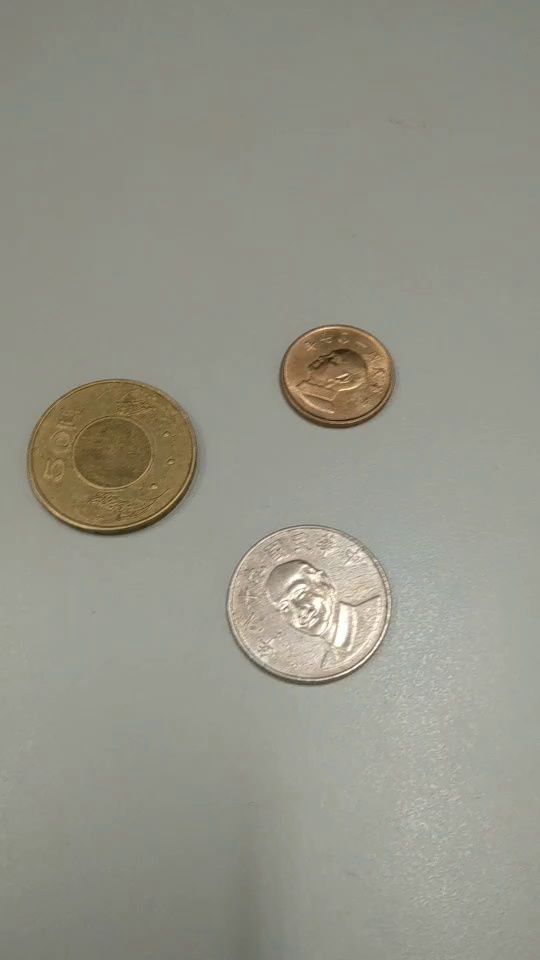NT$ 1: (280, 324, 398, 431)
NT$ 10: (226, 522, 392, 685)
NT$ 50: (26, 379, 197, 536)
